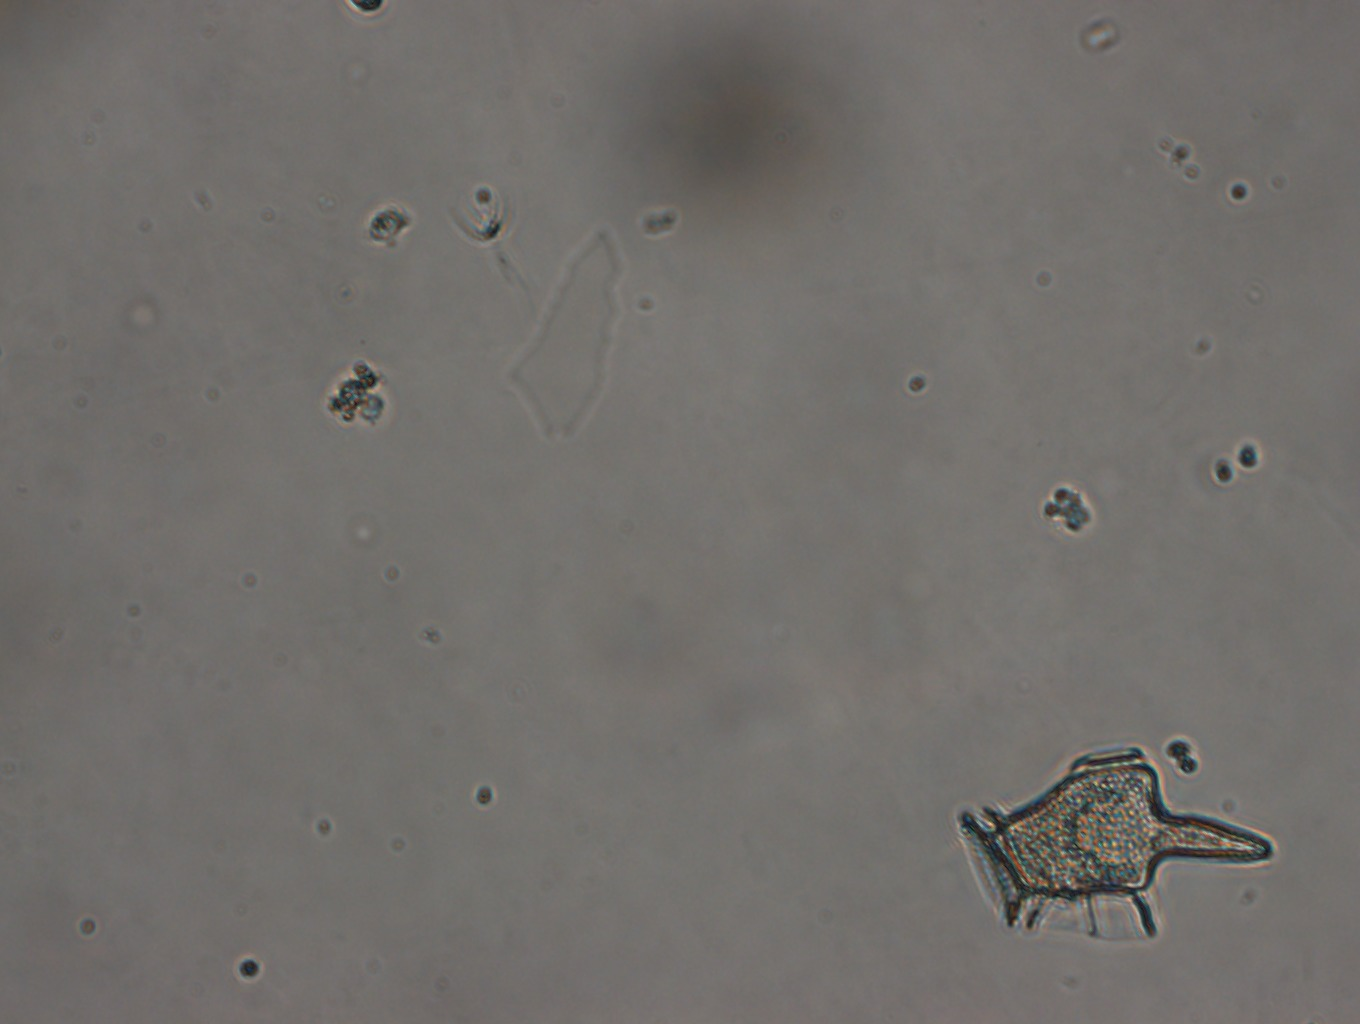dinophysis caudata: (957, 739, 1282, 950)
